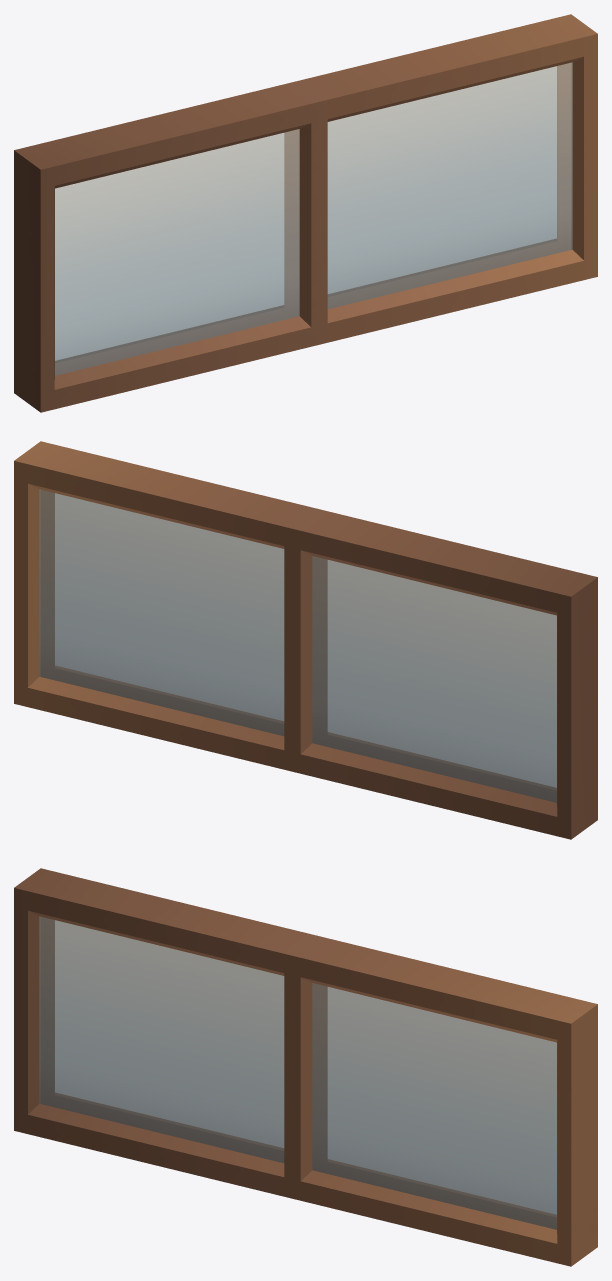
File: ShortWindow.fbx
3 renders of one model, top to bottom at view 1: azimuth 30°, elevation 25°; view 2: azimuth 150°, elevation 25°; view 3: azimuth 330°, elevation 25°, orthographic.
Parts seen in each view (by area): view 1: ShortWindow; view 2: ShortWindow; view 3: ShortWindow.
Boxes of the visible parts, x1=… form: ShortWindow: x1=14, y1=14, x2=597, y2=412; ShortWindow: x1=14, y1=441, x2=597, y2=839; ShortWindow: x1=14, y1=868, x2=597, y2=1266.
Bounding box in the file's own units: 300 × 125 × 25.
